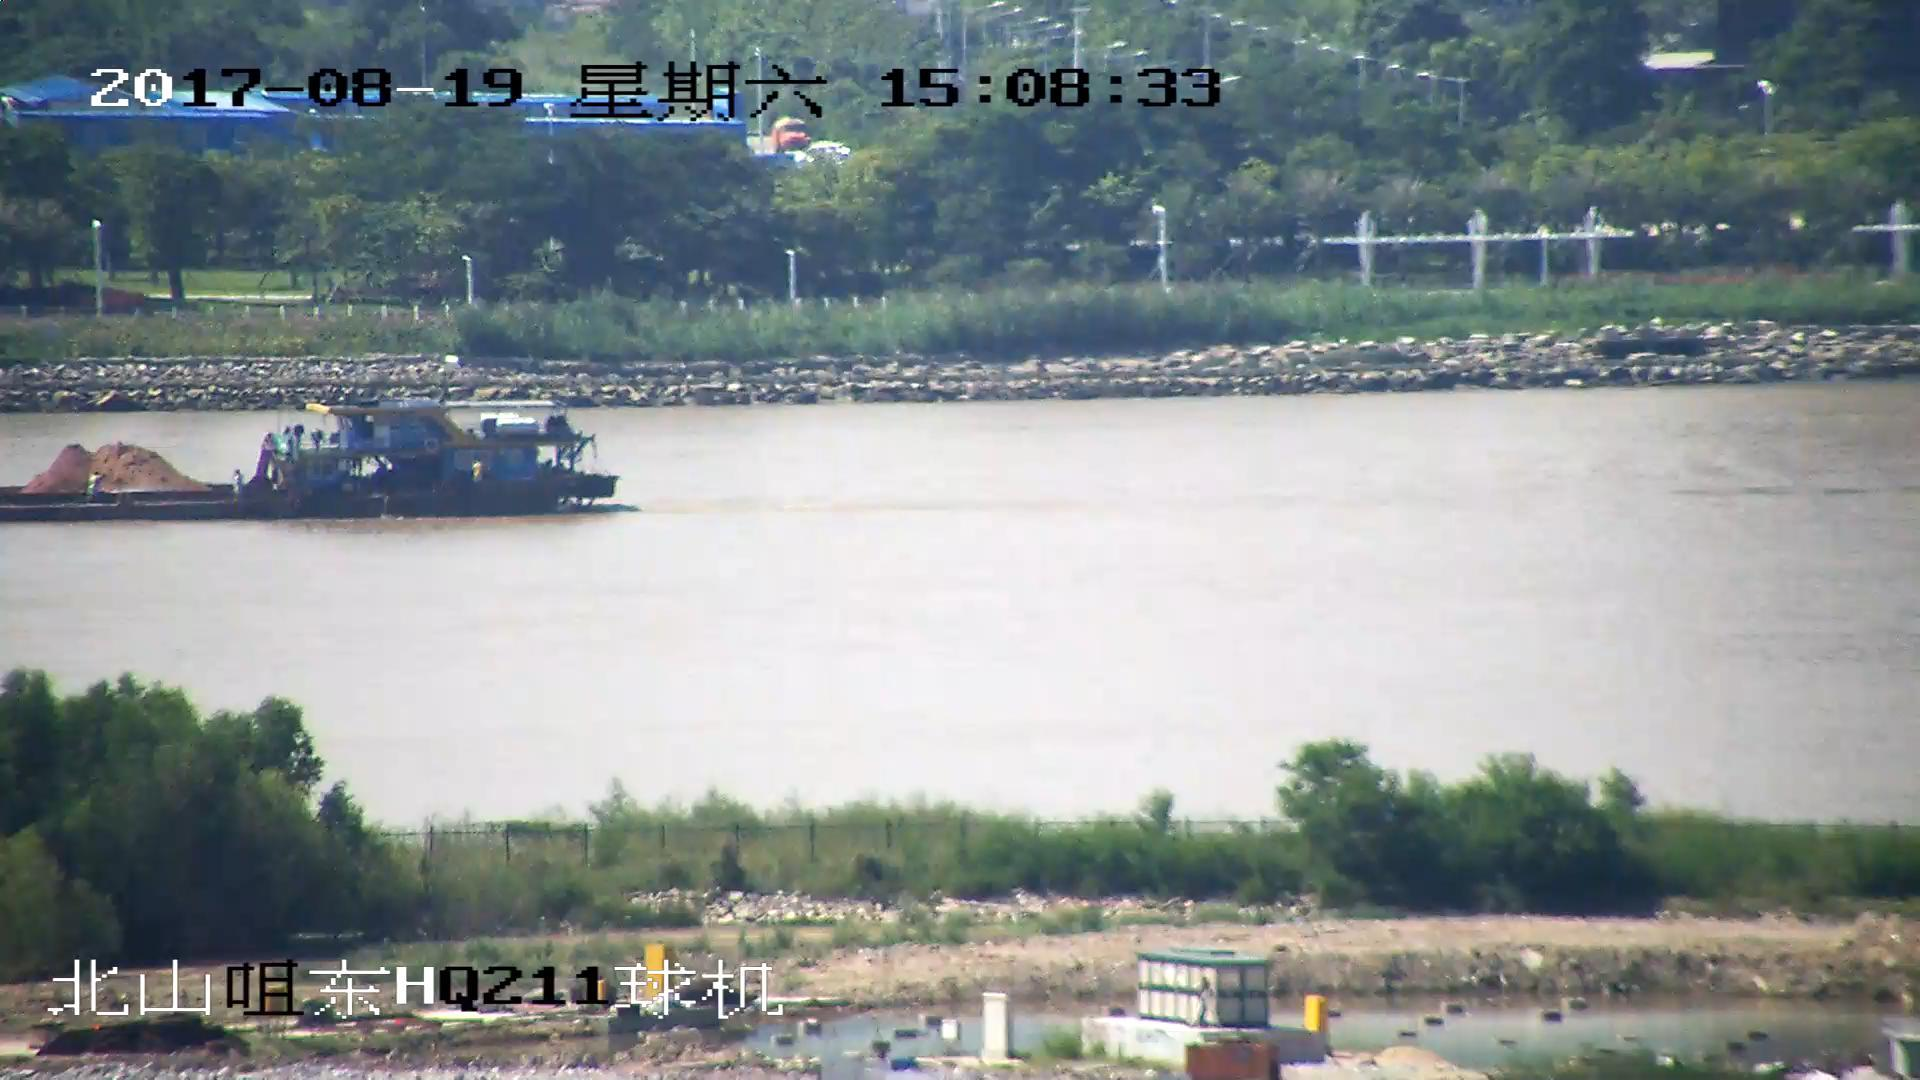Ship: (3, 382, 625, 521)
